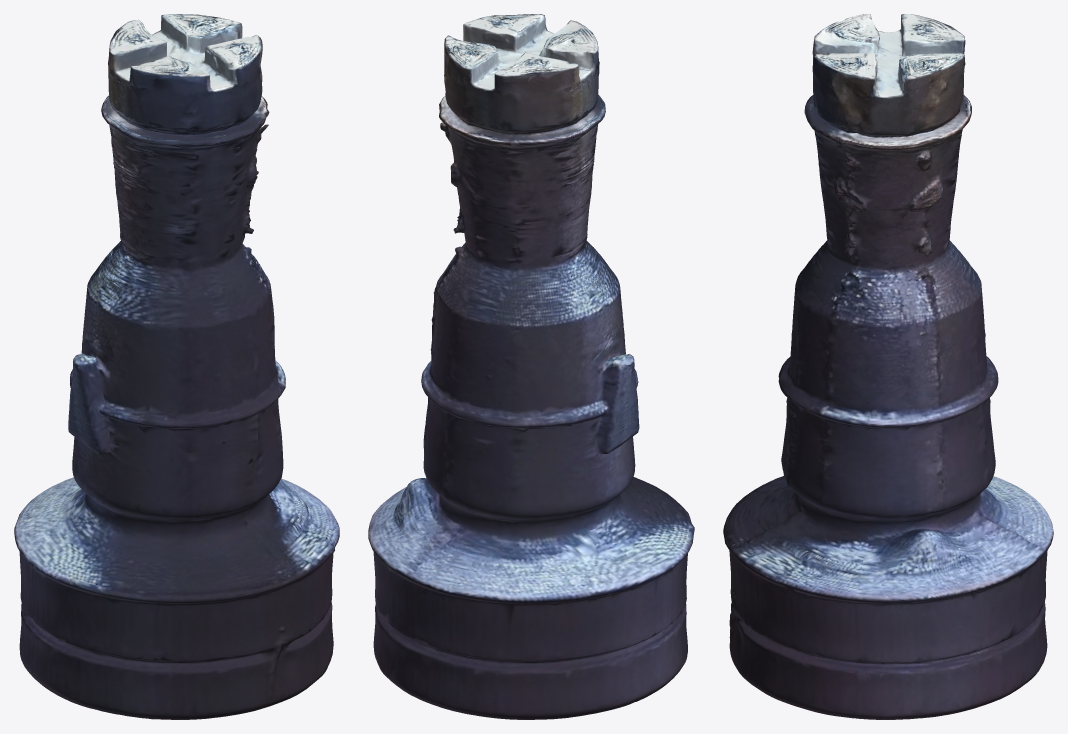
File: nur.glb
3 renders of one model, left to right at view 1: azimuth 30°, elevation 25°; view 2: azimuth 150°, elevation 25°; view 3: azimuth 270°, elevation 25°, orthographic.
Visible parts, largest first — view 1: tripo_node_17030a62-0e55-442f-8e66-43d56bf026db; view 2: tripo_node_17030a62-0e55-442f-8e66-43d56bf026db; view 3: tripo_node_17030a62-0e55-442f-8e66-43d56bf026db.
Part boxes in pixels (x1=…): tripo_node_17030a62-0e55-442f-8e66-43d56bf026db: x1=14, y1=14, x2=339, y2=719; tripo_node_17030a62-0e55-442f-8e66-43d56bf026db: x1=368, y1=14, x2=694, y2=719; tripo_node_17030a62-0e55-442f-8e66-43d56bf026db: x1=723, y1=14, x2=1053, y2=719.
Size of the model in its own units: 0.4732 by 0.9783 by 0.4755.
1 material, 1 textured.
